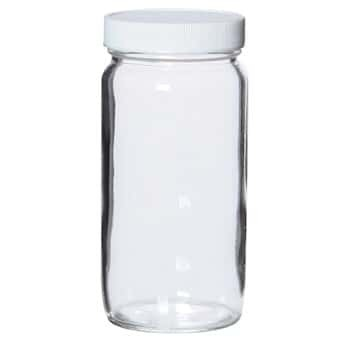container: (90, 6, 257, 338)
